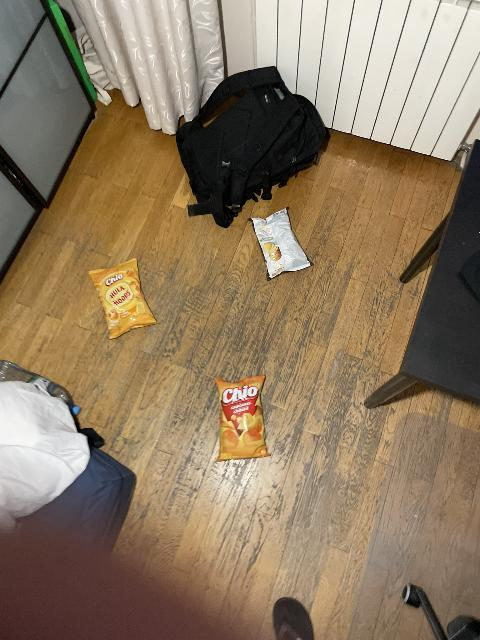Chio Cascaval 125g: (214, 374, 271, 460)
Chio Hula Hoops Cheese 70g: (87, 260, 158, 337)
Lays Beef Grilled Ribs 125g: (248, 208, 312, 278)
